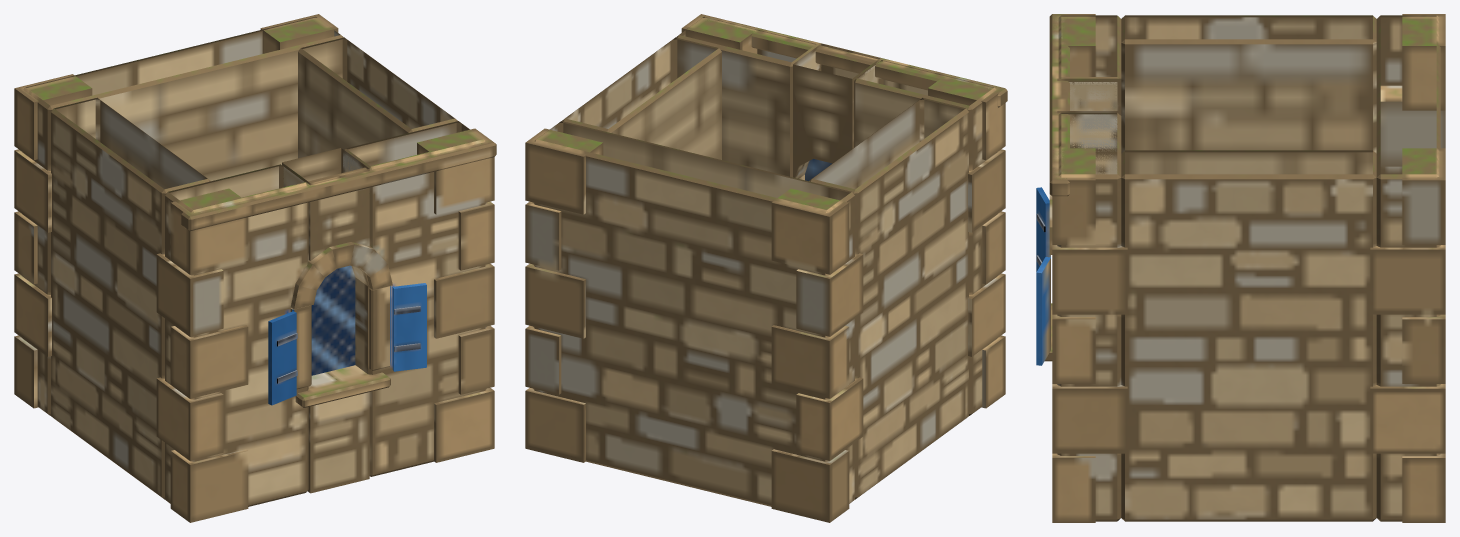
The model's file is Kit_Gate_TowerWindow.fbx.
3 views of the same model, side by side, from view 1: azimuth 30°, elevation 25°; view 2: azimuth 150°, elevation 25°; view 3: azimuth 270°, elevation 25° (orthographic). The views are drawn at different scales.
Parts seen in each view (by area): view 1: Kit_Gate_TowerWindow_LOD0; view 2: Kit_Gate_TowerWindow_LOD0; view 3: Kit_Gate_TowerWindow_LOD0.
Part boxes in pixels (bbox=[...]): Kit_Gate_TowerWindow_LOD0: bbox=[14, 14, 496, 522]; Kit_Gate_TowerWindow_LOD0: bbox=[525, 14, 1007, 522]; Kit_Gate_TowerWindow_LOD0: bbox=[1036, 14, 1445, 522].
Size of what is drawn, in the model's own units: 3.12 by 3 by 3.2.
1 material, 1 textured.
